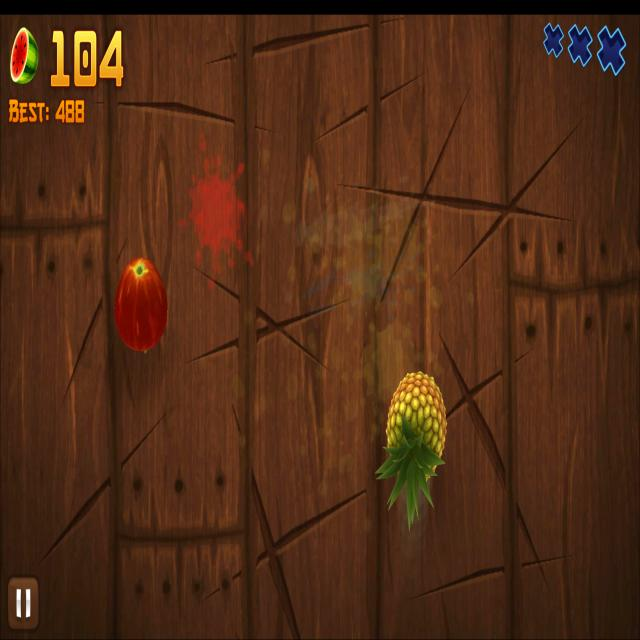fruit: (386, 371, 448, 482), (114, 256, 169, 352)
